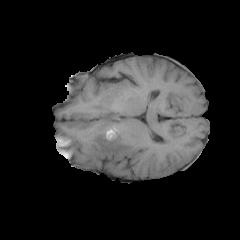glioma: (90, 126, 133, 171)
